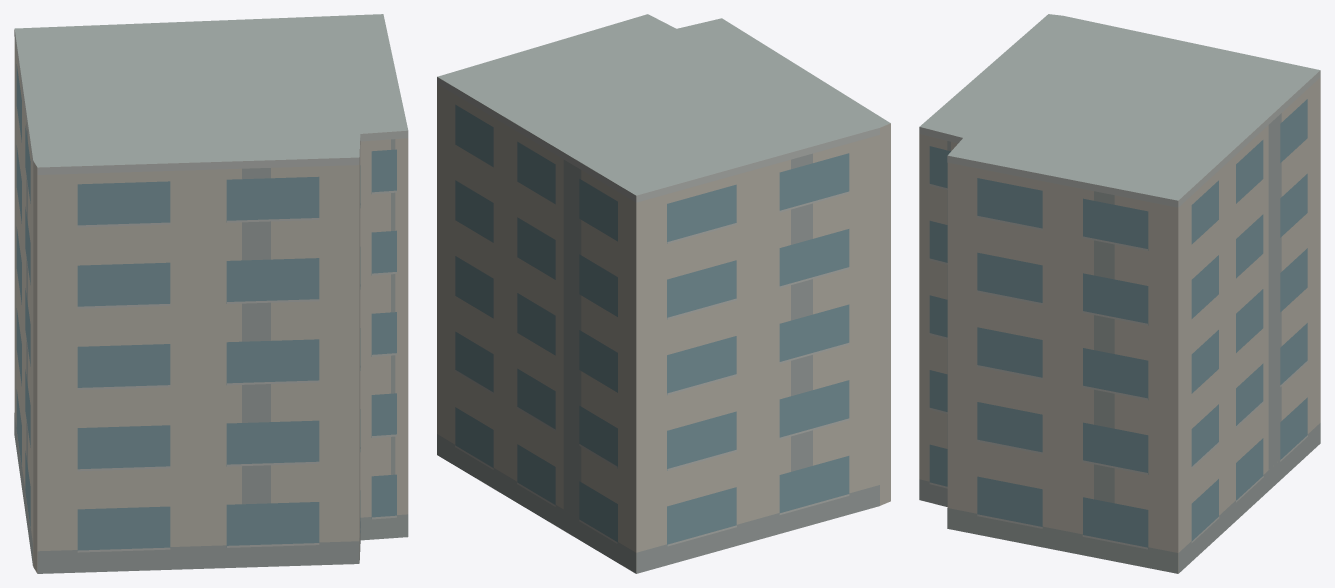
Rendered from survey-upis-32801072.glb.
3 renders of one model, left to right at view 1: azimuth 30°, elevation 25°; view 2: azimuth 150°, elevation 25°; view 3: azimuth 270°, elevation 25°, orthographic. The views are drawn at different scales.
Visible parts, largest first — view 1: survey-upis-32801072.tmp; view 2: survey-upis-32801072.tmp; view 3: survey-upis-32801072.tmp.
Part boxes in pixels (bbox=[...]): survey-upis-32801072.tmp: bbox=[14, 14, 408, 573]; survey-upis-32801072.tmp: bbox=[437, 14, 890, 573]; survey-upis-32801072.tmp: bbox=[919, 14, 1320, 573].
Bounding box in the file's own units: 14.07 × 13.1 × 12.78.
